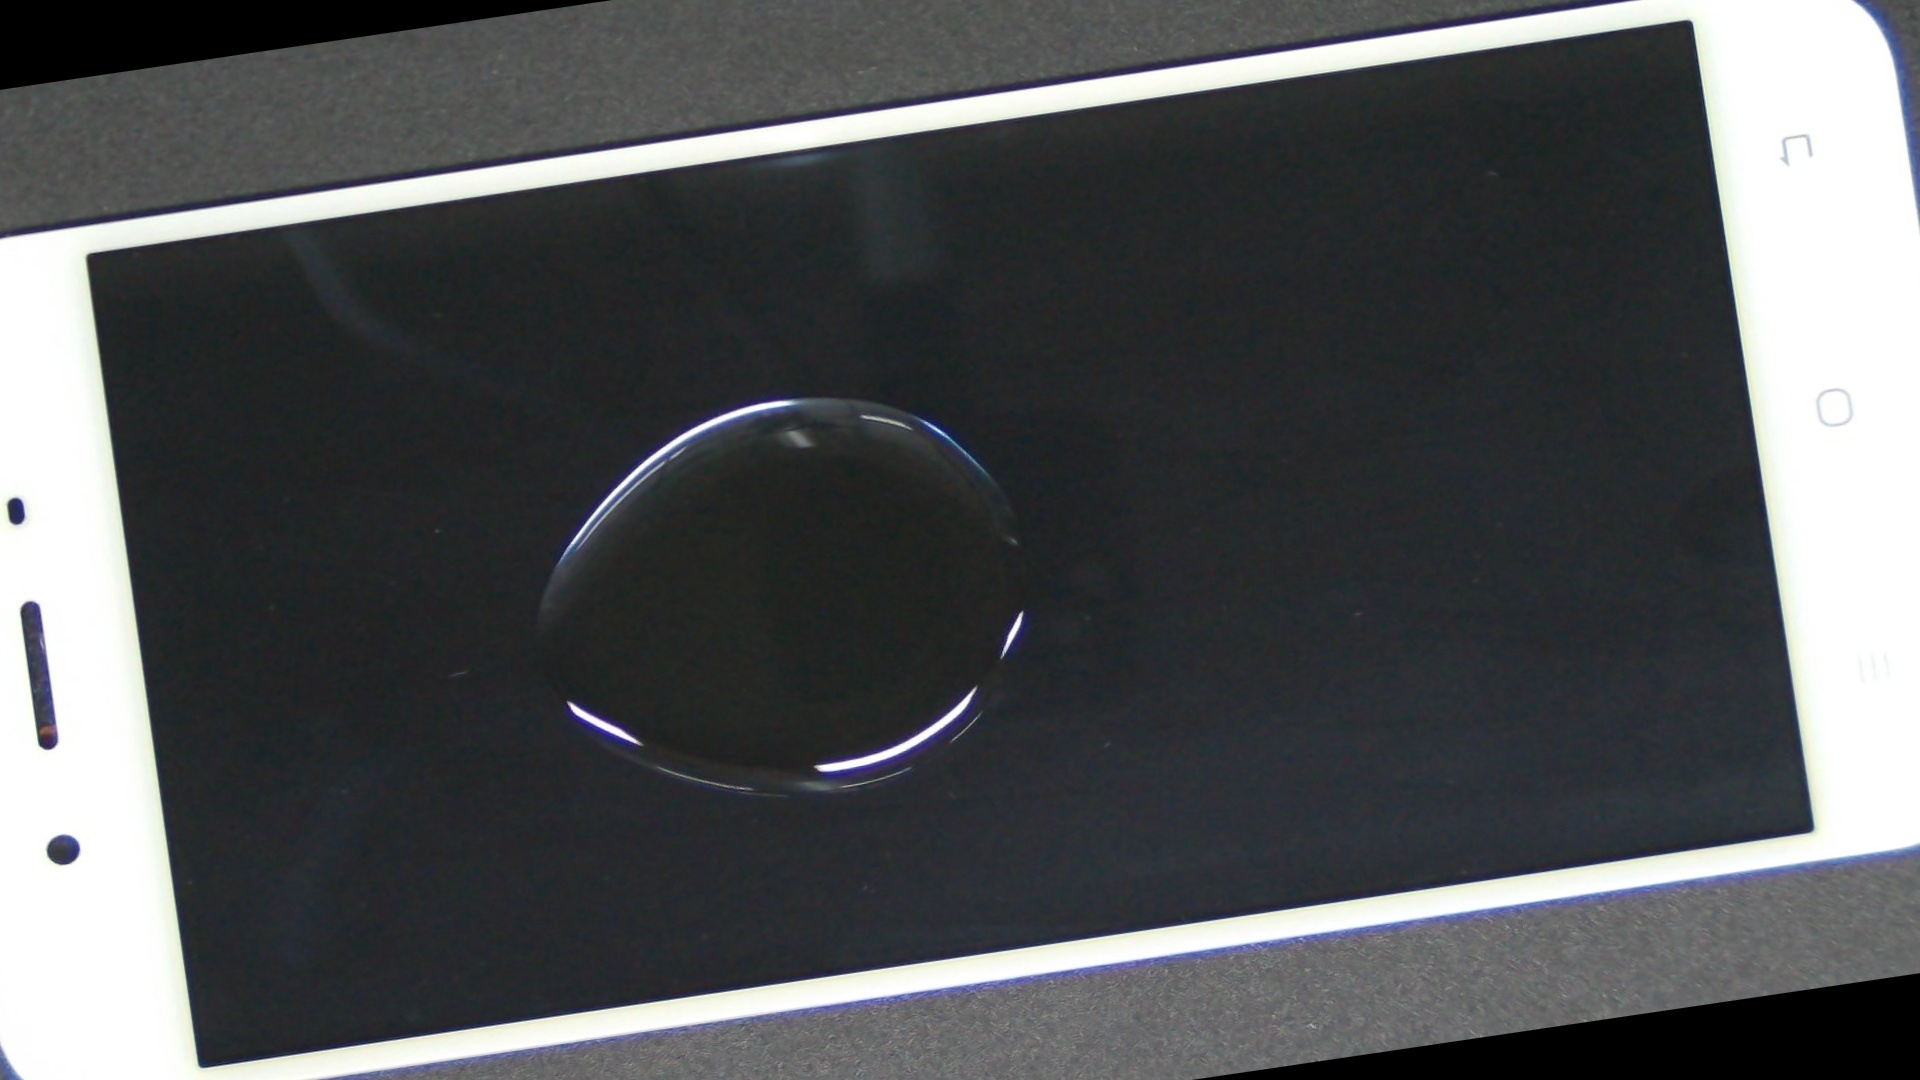oil: (258, 119, 1302, 679)
